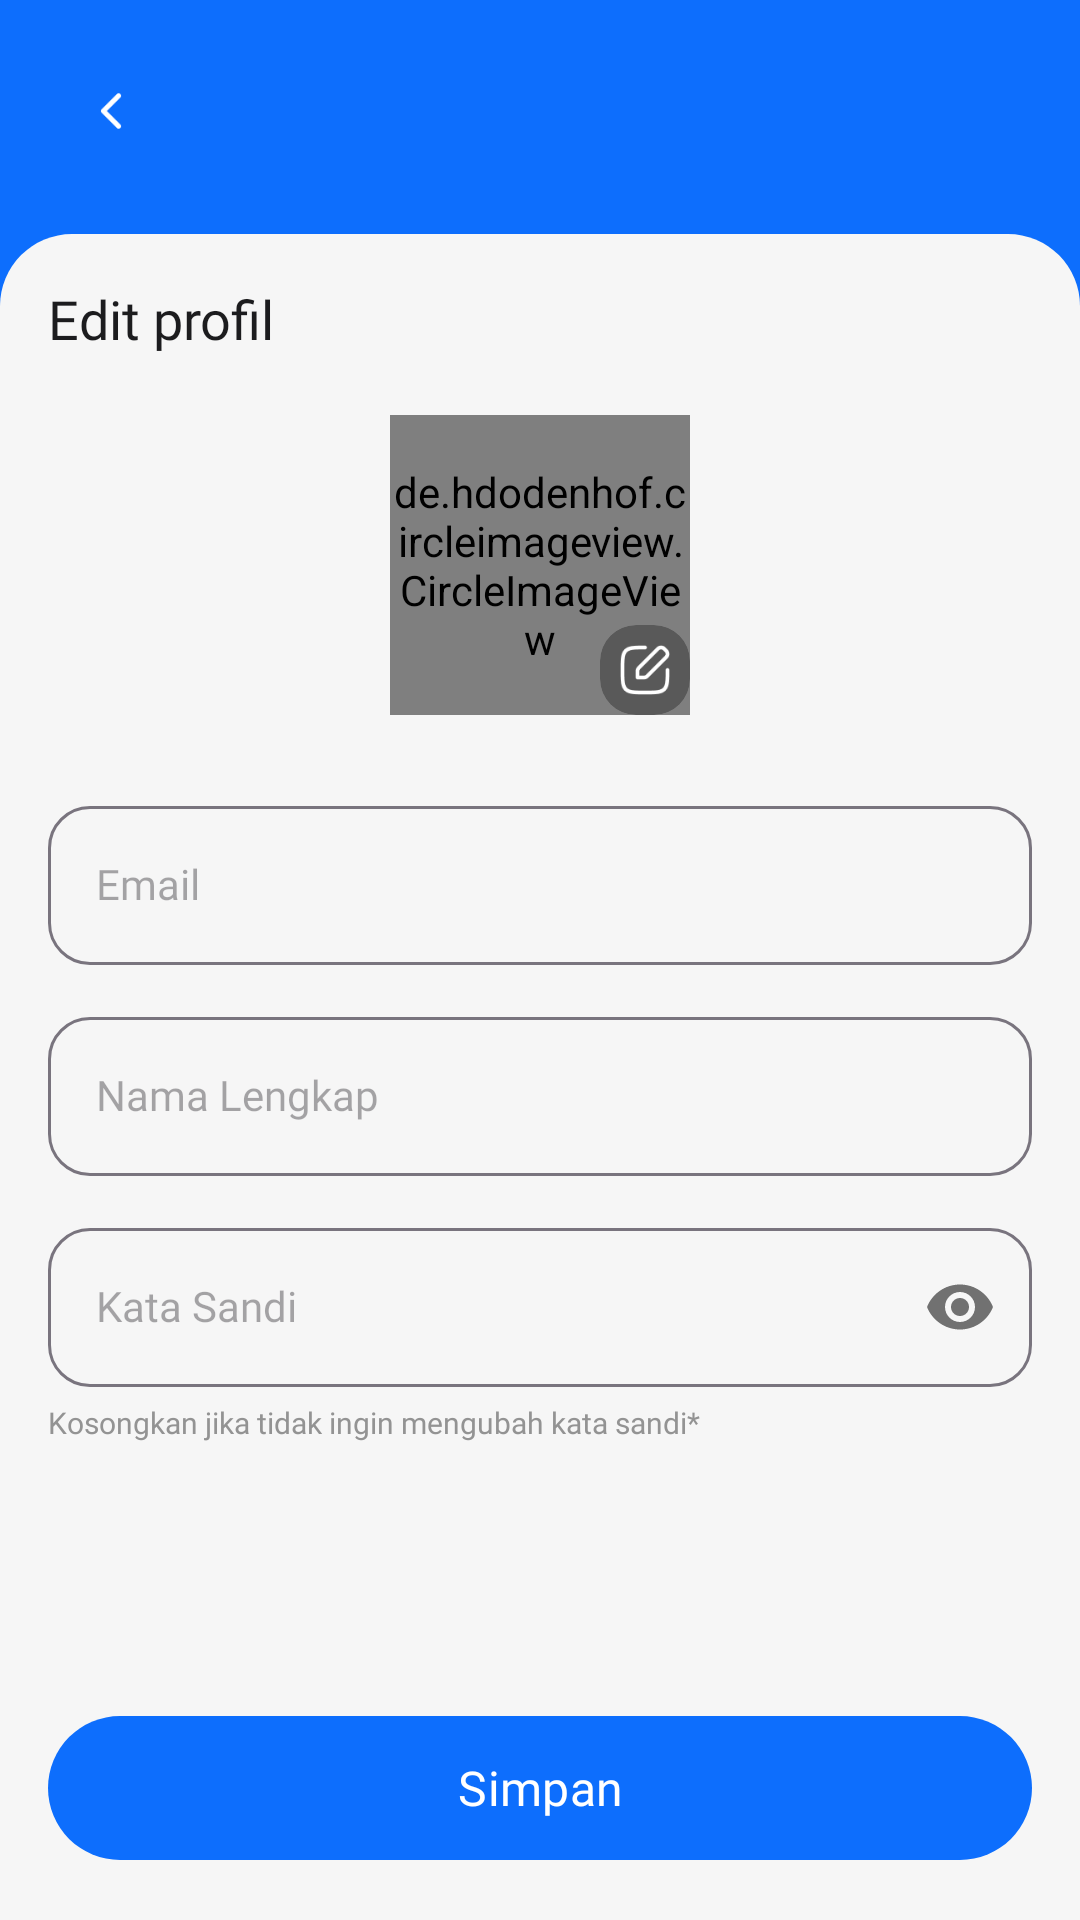

Icons on this 1080 x 1920 Android screen, each with its box as (x1, y1, x2, y2):
back: (101, 93, 121, 129)
edit: (620, 645, 670, 695)
